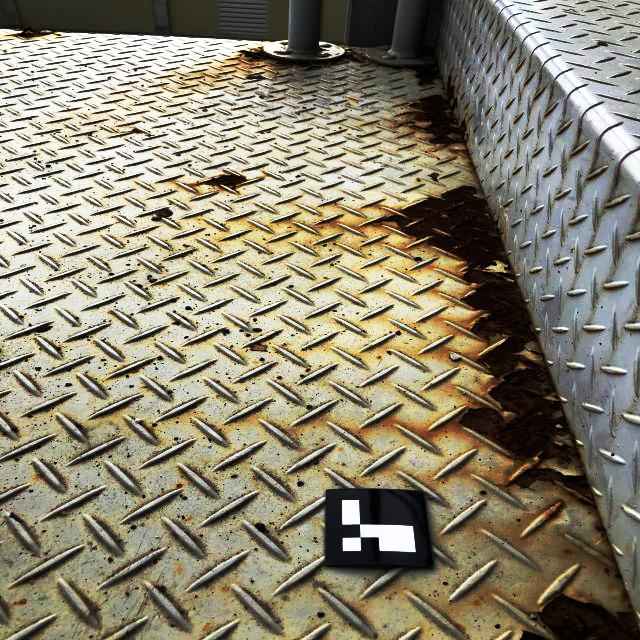Corrosion: (369, 185, 610, 548), (395, 69, 469, 151), (520, 594, 640, 640), (234, 47, 366, 69), (189, 173, 248, 191), (407, 62, 443, 88), (10, 30, 62, 38), (447, 147, 471, 159), (123, 128, 144, 133), (125, 368, 139, 374), (18, 599, 27, 605), (503, 204, 509, 208), (107, 311, 114, 314)
